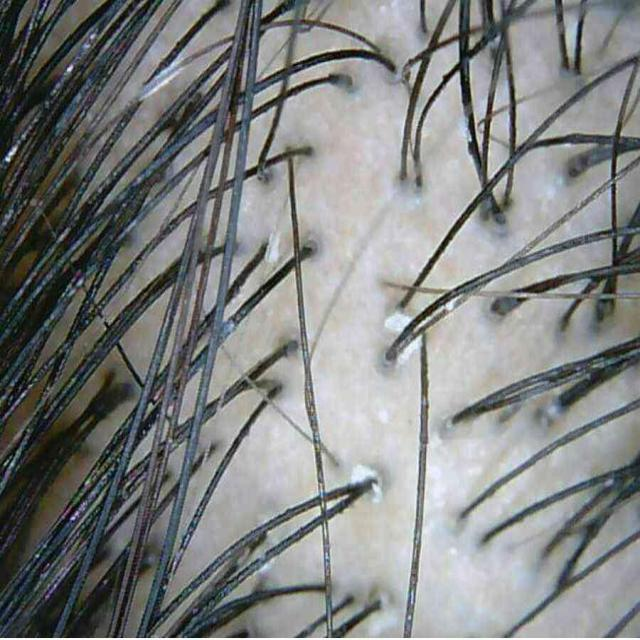d: (352, 464, 382, 503), (398, 336, 421, 365), (385, 310, 412, 333)
